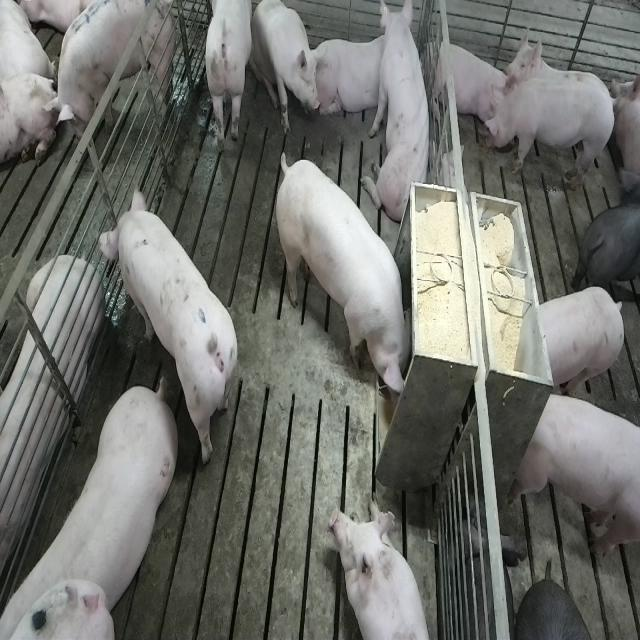Feeding: (280, 150, 420, 399)
Sitting: (367, 4, 435, 229), (251, 0, 320, 137)
Standing: (5, 374, 182, 633), (95, 182, 237, 467), (514, 387, 638, 565), (52, 0, 179, 135), (481, 78, 619, 190), (533, 285, 626, 400), (203, 2, 255, 156), (579, 179, 640, 310)
Sternal_lying: (0, 255, 104, 572), (332, 500, 437, 640), (426, 30, 509, 134), (312, 31, 393, 123), (502, 29, 566, 104)
